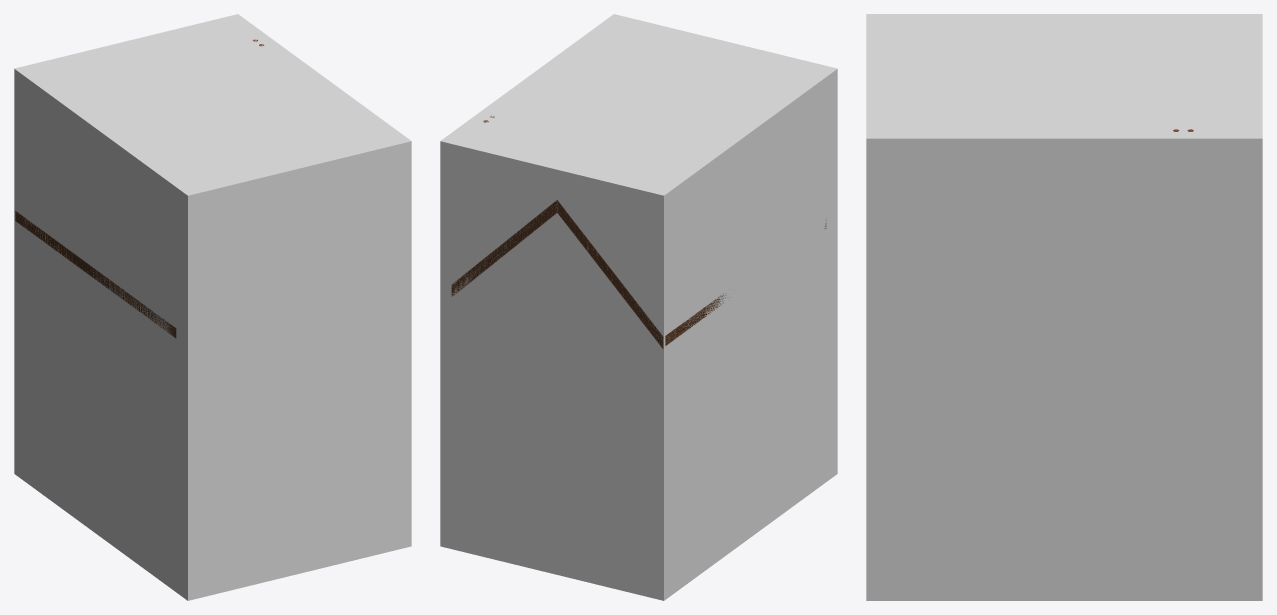
The model's file is house_townhouse.glb.
3 views of the same model, side by side, from view 1: azimuth 30°, elevation 25°; view 2: azimuth 150°, elevation 25°; view 3: azimuth 270°, elevation 25° (orthographic). The views are drawn at different scales.
Parts seen in each view (by area): view 1: COL_house_townhouse_static_00, house_townhouse_static; view 2: COL_house_townhouse_static_00, house_townhouse_static; view 3: COL_house_townhouse_static_00.
Boxes of the visible parts, left/top/right/bottom form: COL_house_townhouse_static_00: left=14, top=14, right=411, bottom=600; house_townhouse_static: left=15, top=39, right=264, bottom=338; COL_house_townhouse_static_00: left=440, top=14, right=837, bottom=600; house_townhouse_static: left=451, top=115, right=826, bottom=348; COL_house_townhouse_static_00: left=866, top=14, right=1262, bottom=600.
Bounding box in the file's own units: 5.51 × 9.52 × 7.4.
Materials: 7 (7 with a texture image).
